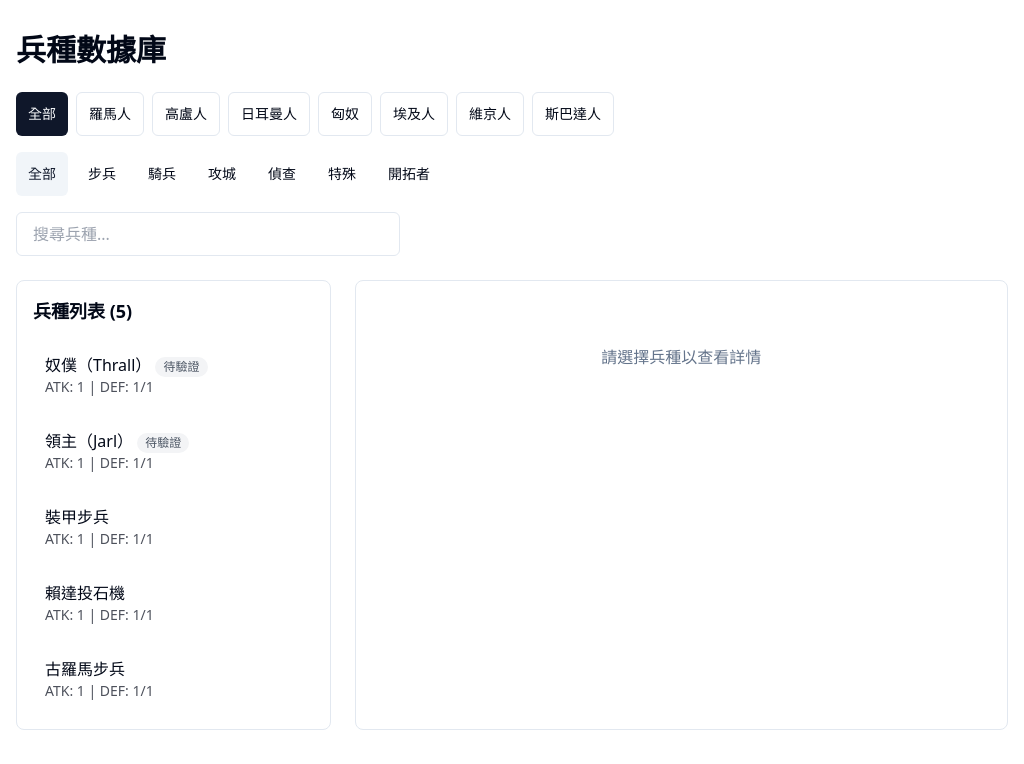
Test: TroopsPage: Viking names are 「中文暫譯（官方英文名）」 + 待驗證 › detail heading keeps the clickable chip; tap shows the two lines
The width and height of the screenshot is (1024, 764).
Click the text "奴僕（Thrall）": (98, 365) [45, 354, 151, 376]
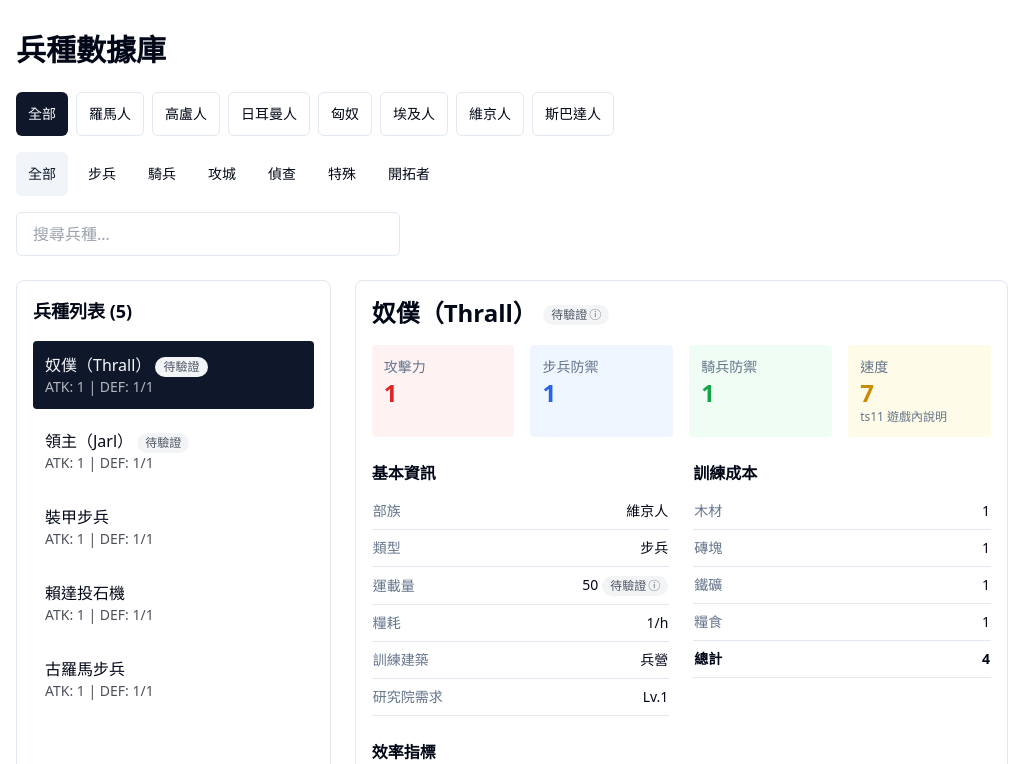
Click the button with test id "pending-verify-chip": (576, 316) [543, 306, 609, 326]
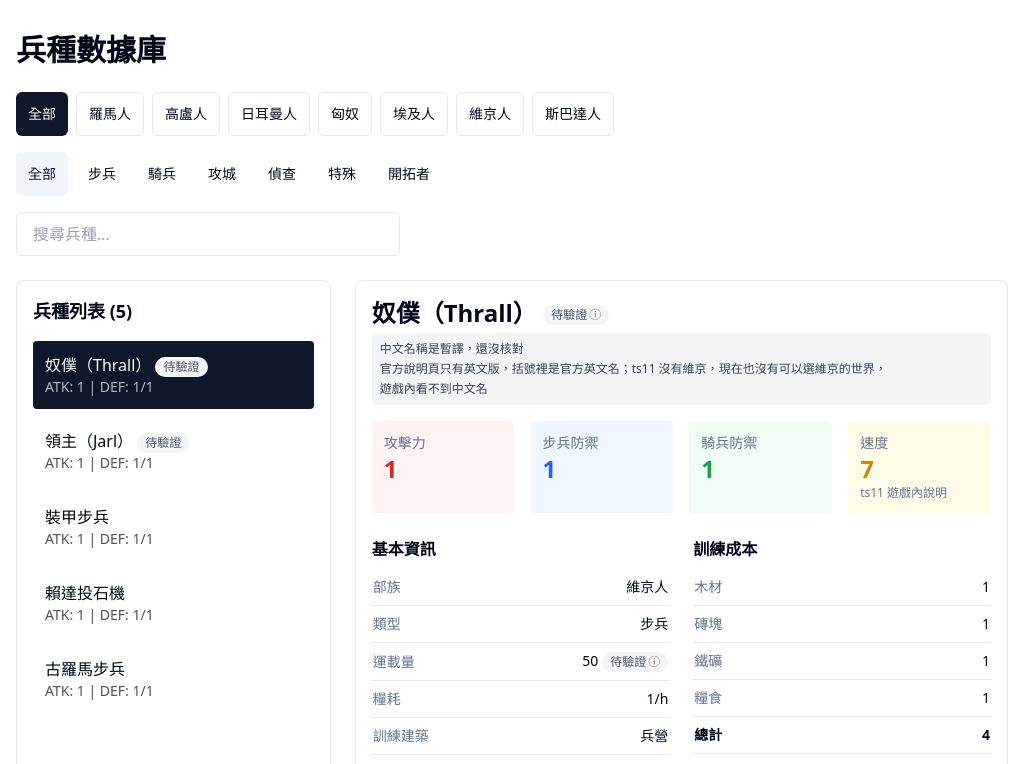
Check: the element with test id "pending-note-what" reads "中文名稱是暫譯， 還沒核對", box [380, 340, 524, 357]
Check: the element with test id "pending-note-source" shows "括號裡是官方英文名", box [512, 360, 632, 377]
